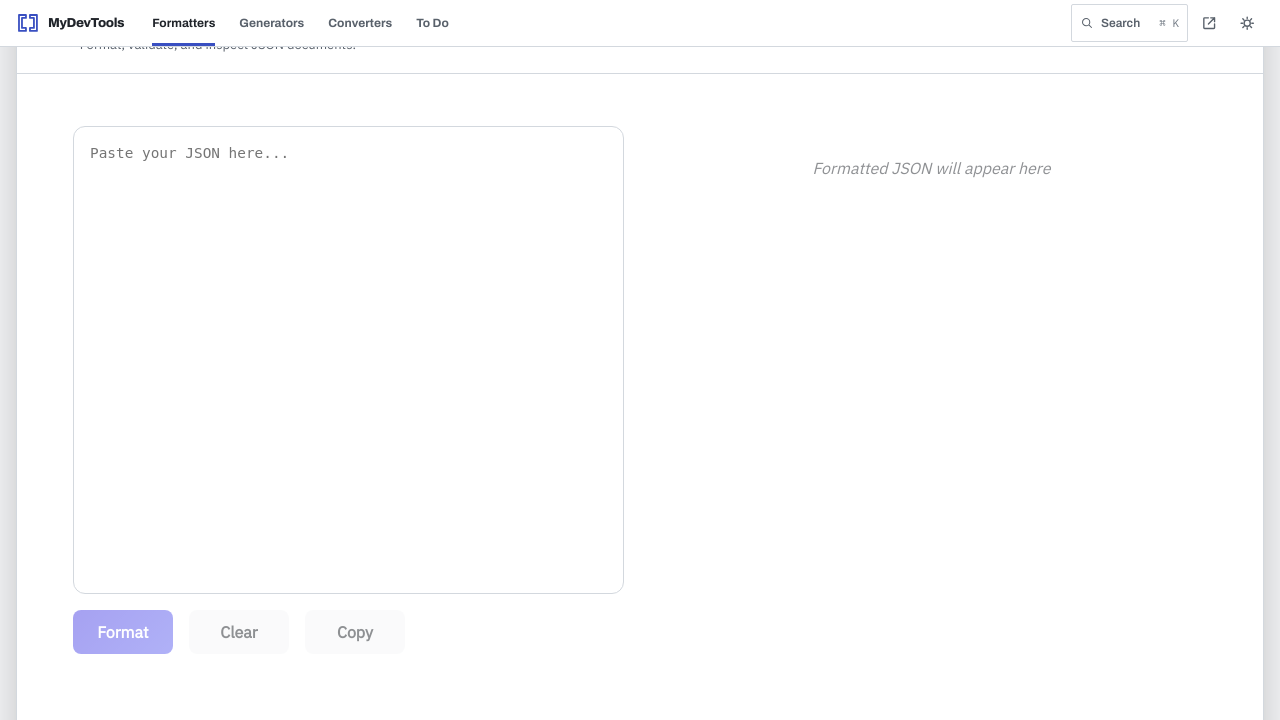
Test: JsonFormatter Component › shows error for invalid JSON
(page scrolled)
Step 1. Press {foo: bar} in the text box with test id "json-input", box x1=73 y1=126 x2=624 y2=594
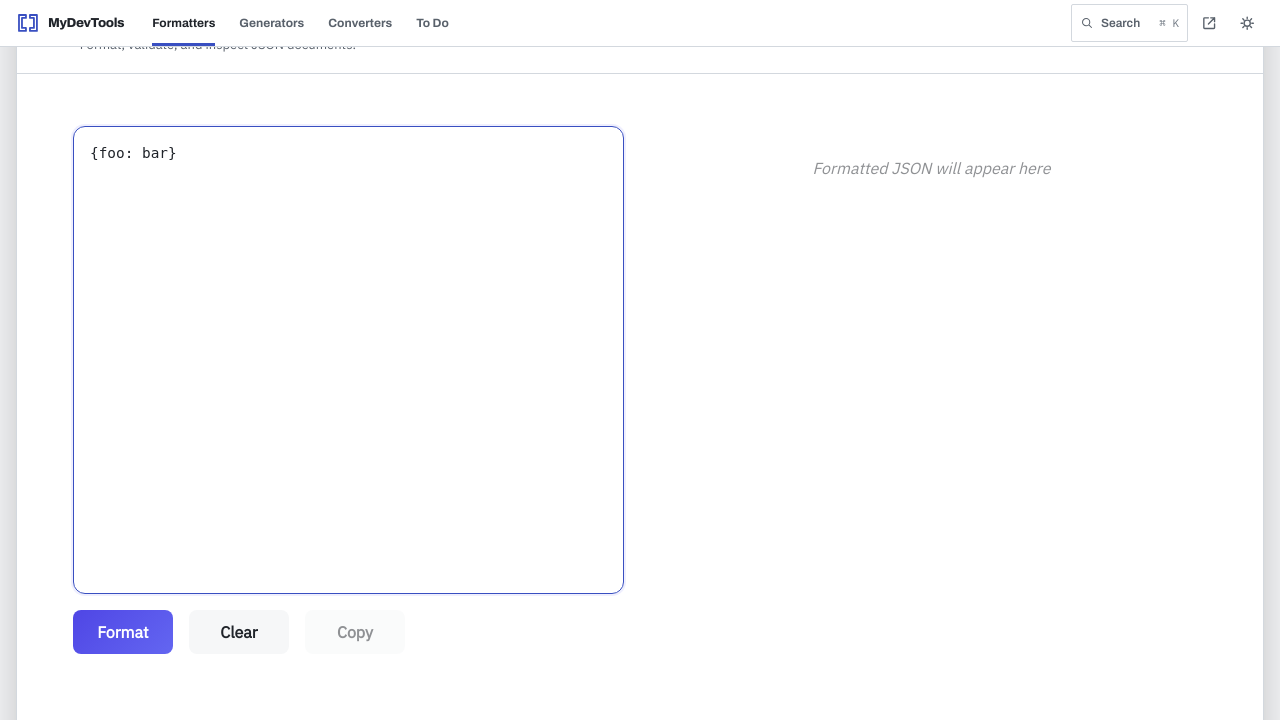
Step 2. Click the button with test id "format-btn" → (123, 632), box x1=73 y1=610 x2=173 y2=654
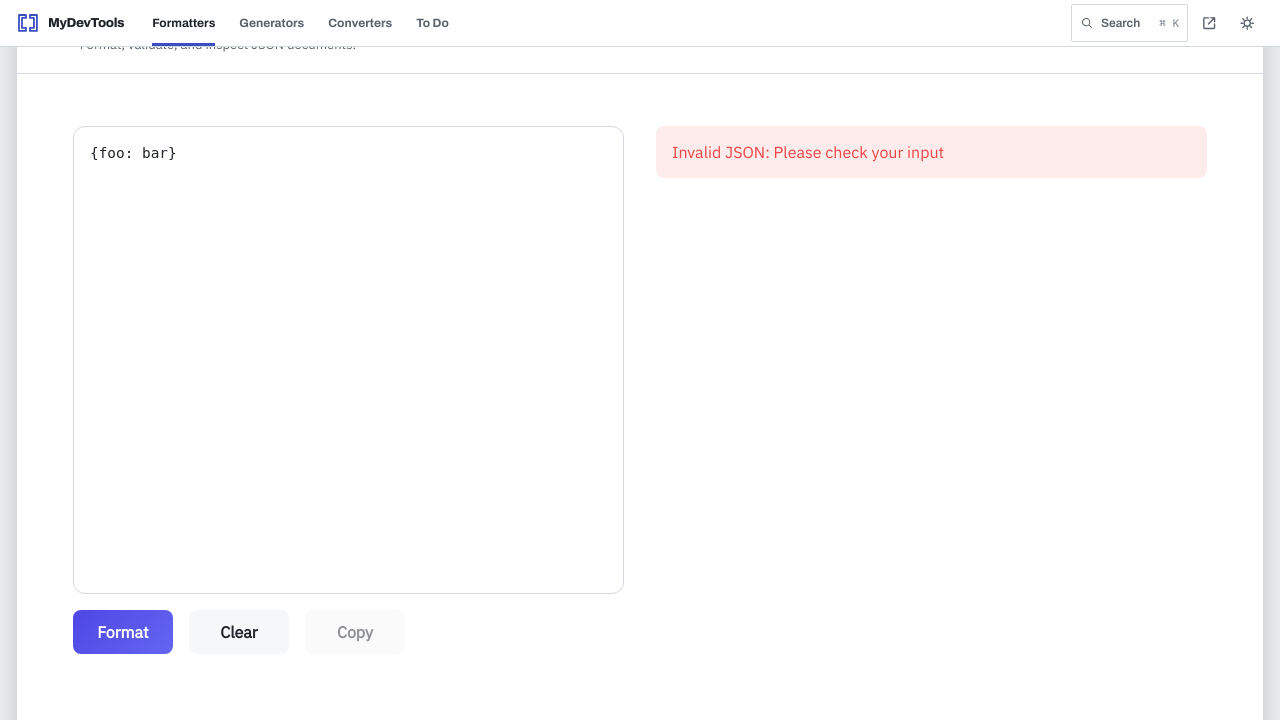
Expected: the text with test id "error-message" shows "Invalid JSON", x1=656 y1=126 x2=1207 y2=178
Expected: the text with test id "placeholder-message" is gone
